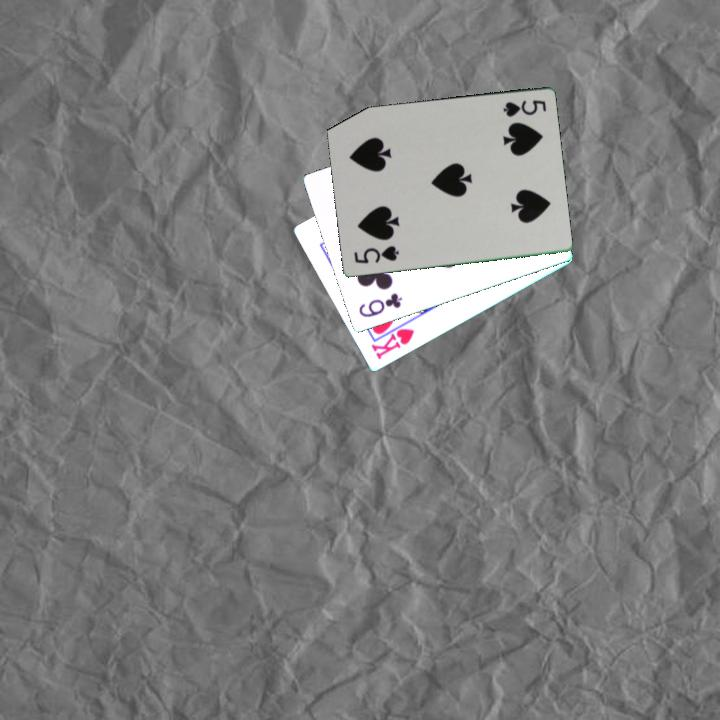5s: (350, 242, 402, 267), (499, 97, 549, 120)
6c: (355, 290, 405, 320)
Kh: (367, 318, 417, 363)
